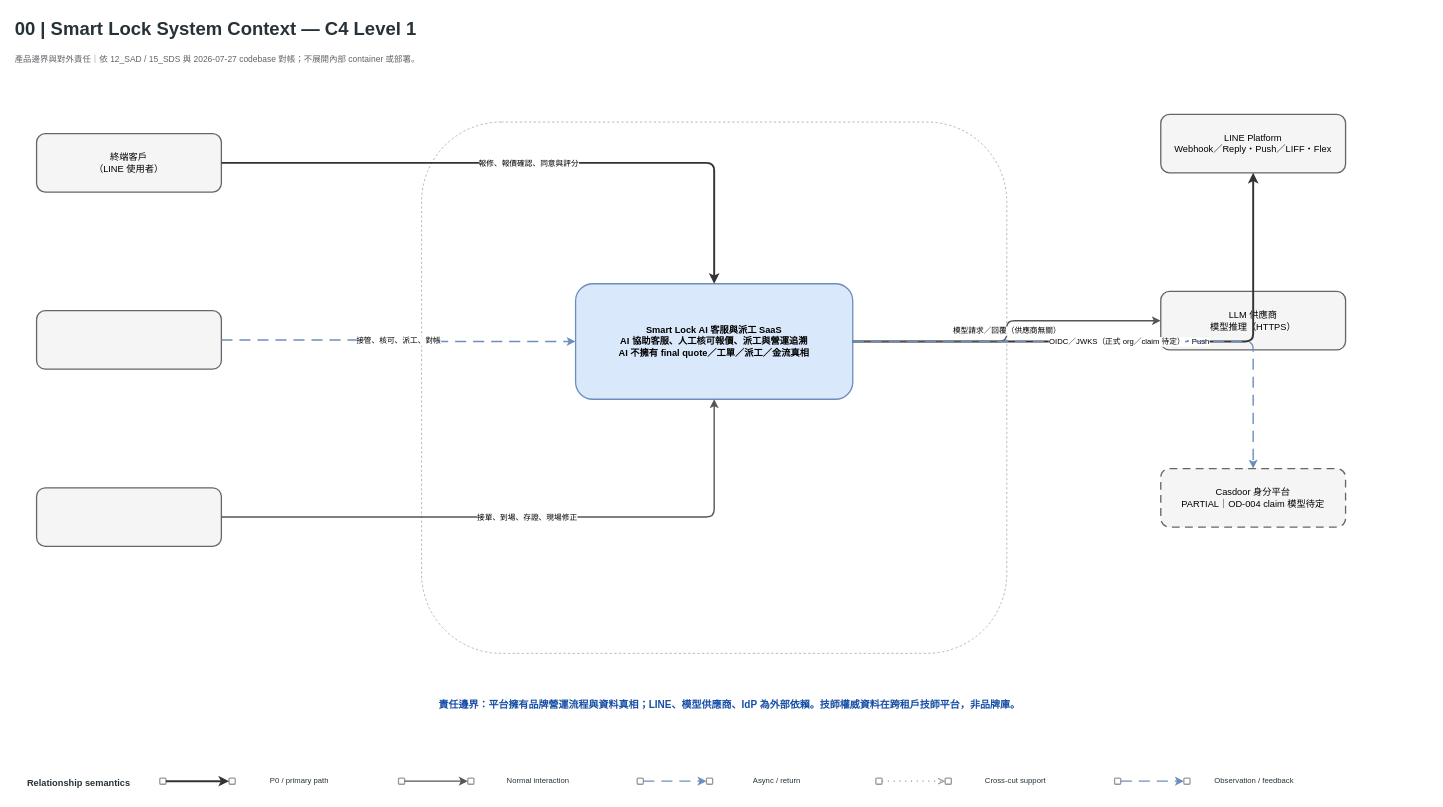
Image size: 1443x807. Some labels were removed from this diagram. Each missing label, with the box of its shape:
System of Interest | Smart Lock AI 客服與派工 SaaS 平台: (421, 121, 1007, 653)
品牌營運人員 （客服／派工／報價）: (36, 310, 222, 370)
簽約技師／鎖匠 （跨品牌共享）: (36, 487, 222, 547)
